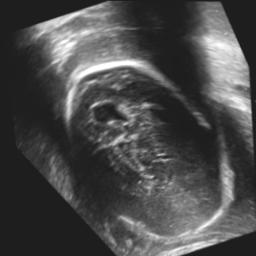normal: (34, 32, 248, 256)
